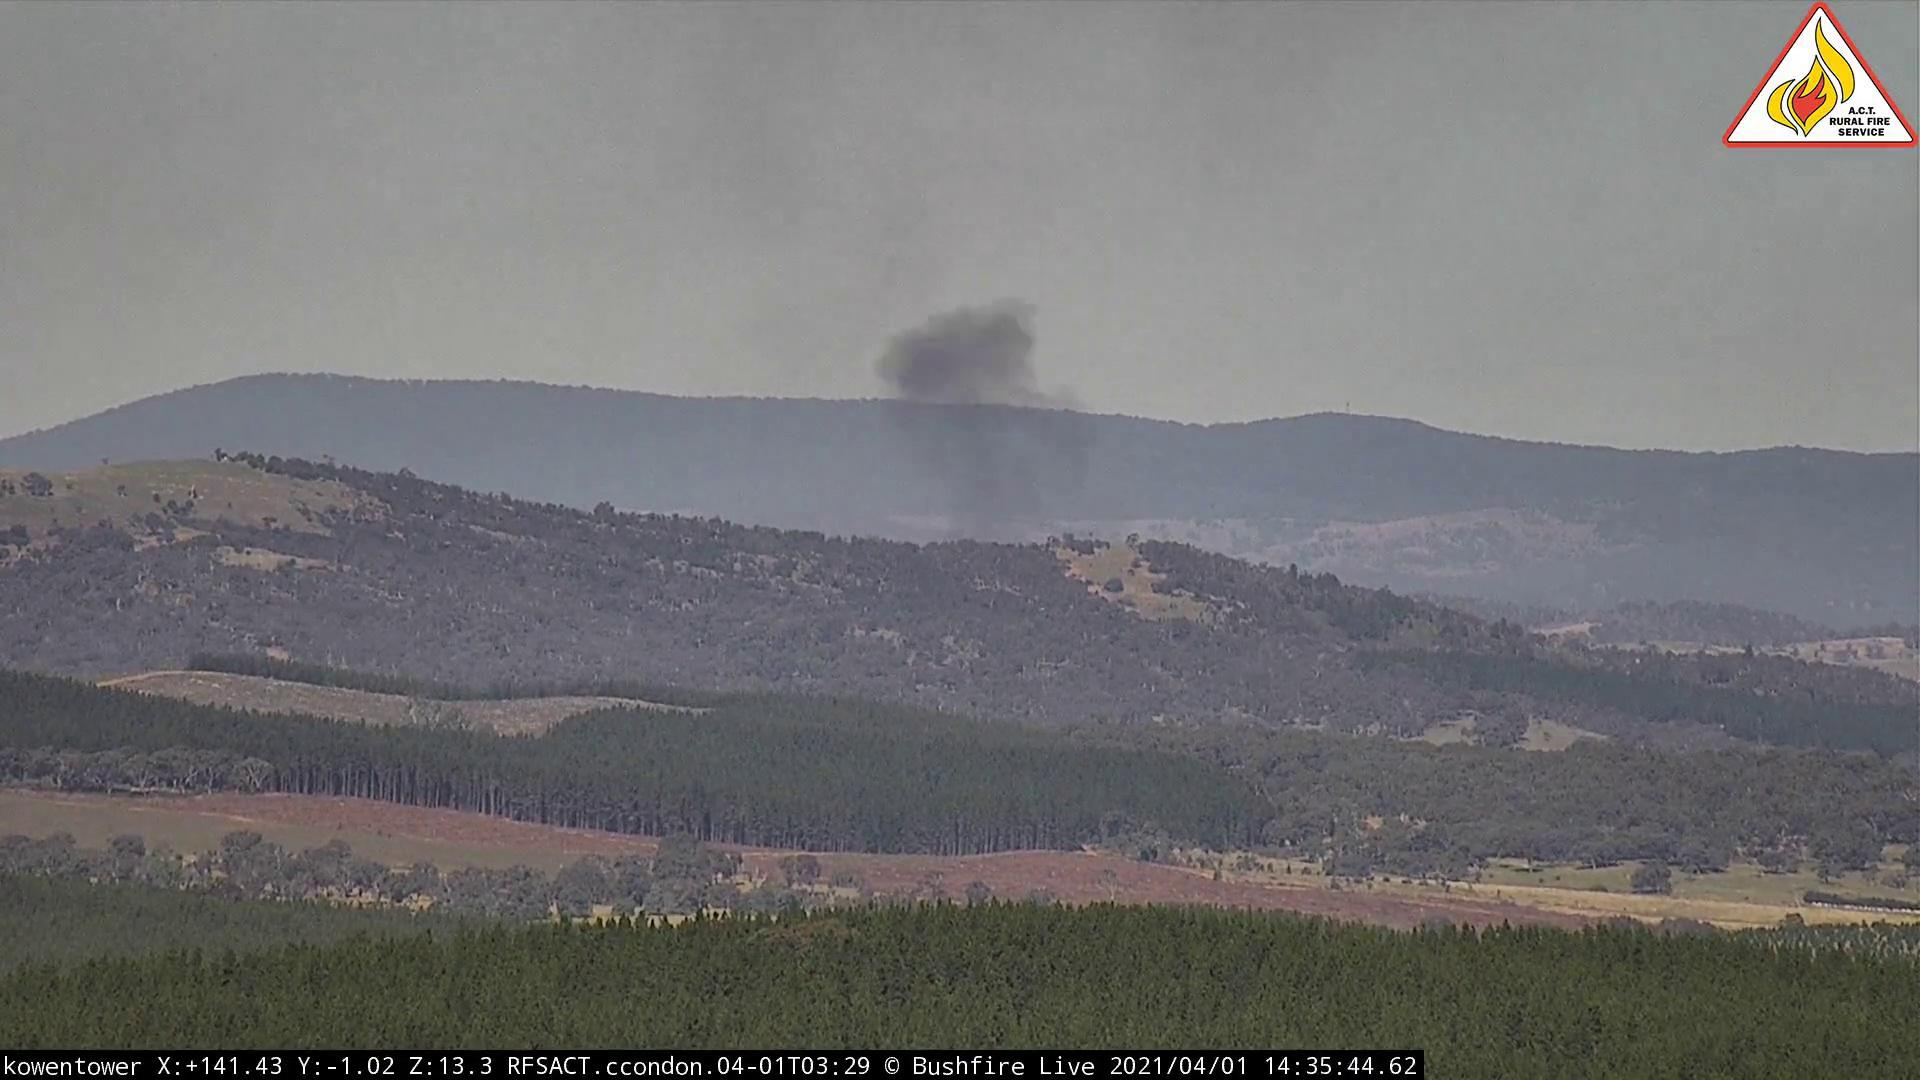instance_salient_object: (849, 278, 1102, 555)
